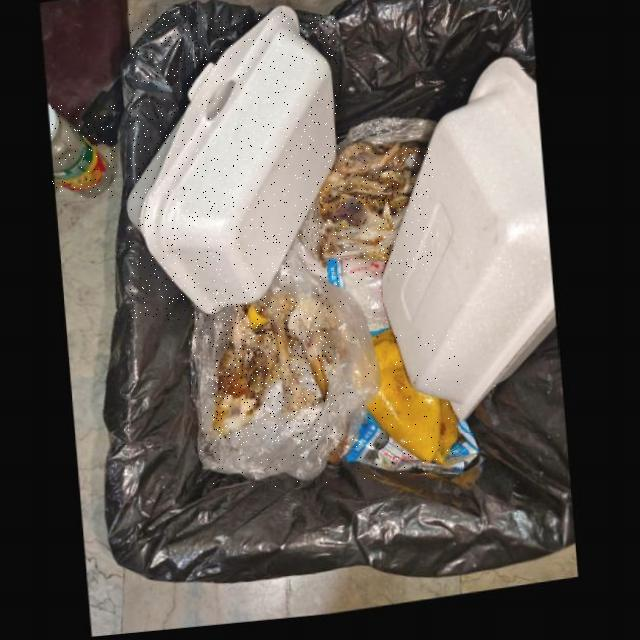biowaste: (212, 302, 331, 442), (320, 148, 433, 275), (368, 335, 461, 473)
glass: (52, 105, 116, 198)
plastic: (193, 259, 384, 487)
styrofoam: (129, 12, 341, 319), (383, 69, 559, 432)
